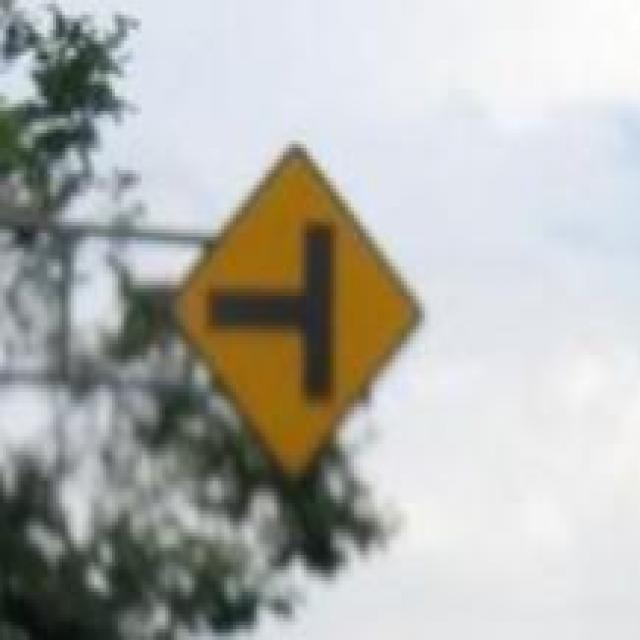traffic sign: (183, 156, 419, 478)
